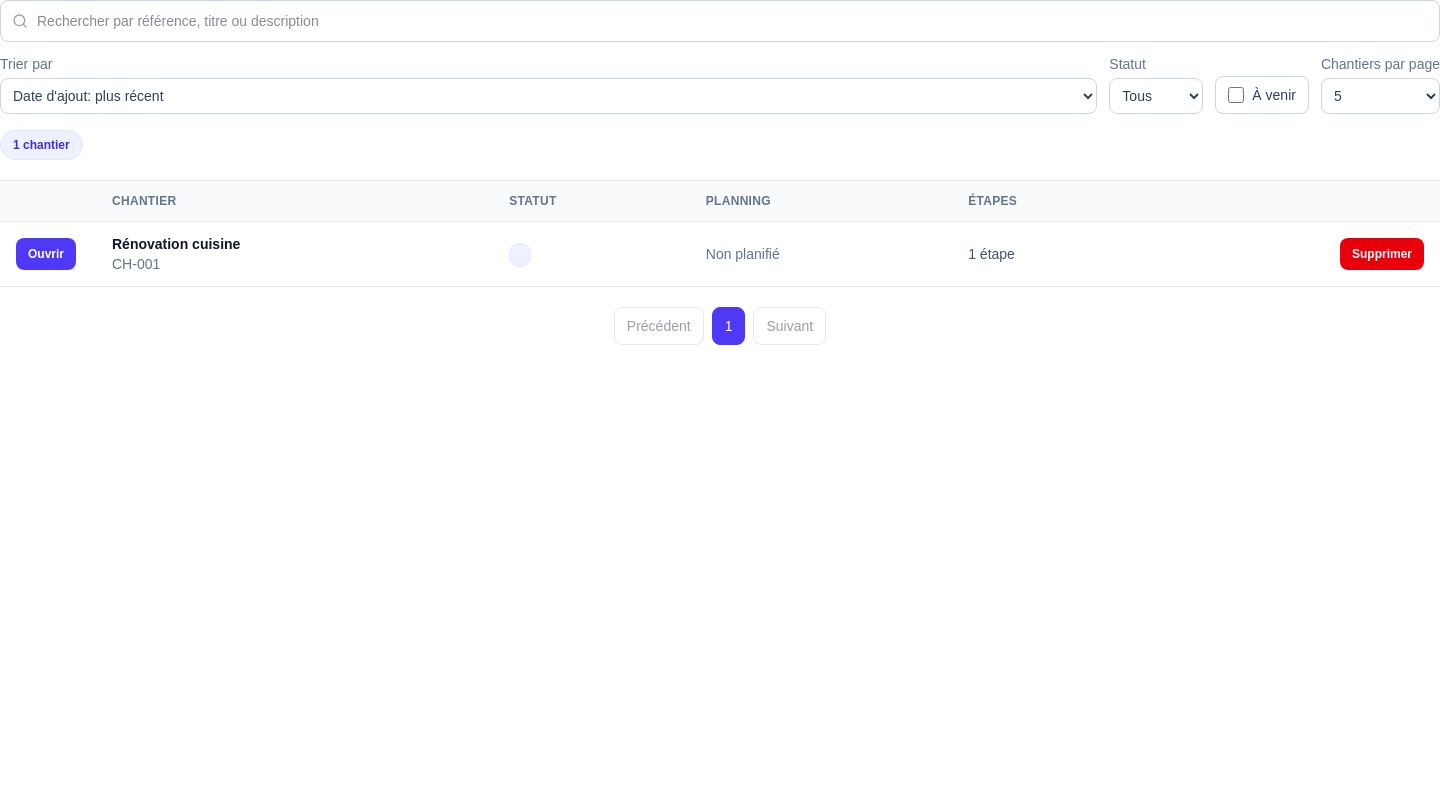
Test: WorkOrdersList › confirms deletion and reports the selected work order id
Click the button with aria-label "Supprimer le chantier CH-001": (1382,254) [1340,238,1424,270]
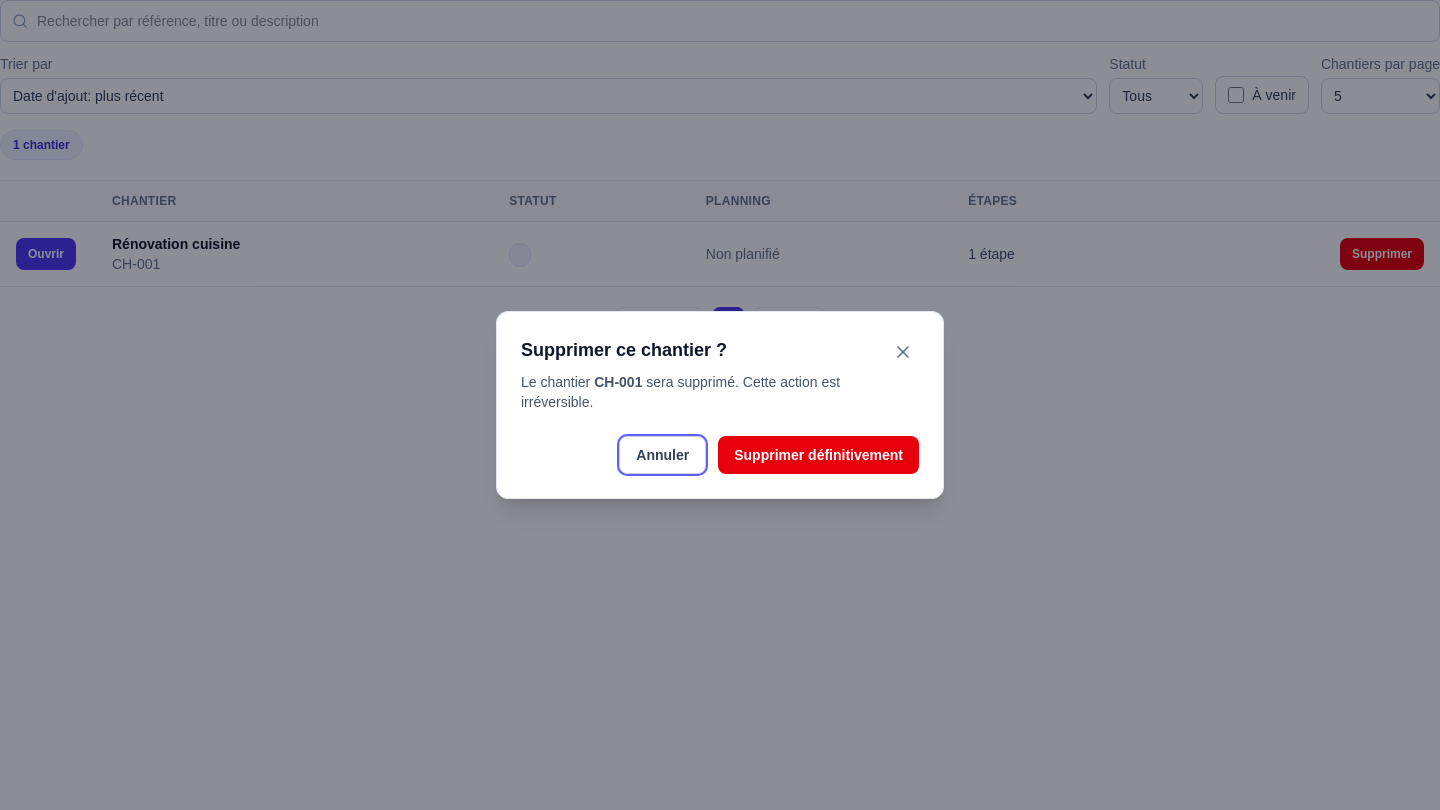
Now the dialog shows "Supprimer ce chantier ?", box [521,340,727,360]
Click the button "Supprimer définitivement": (819,455) [718,436,919,474]
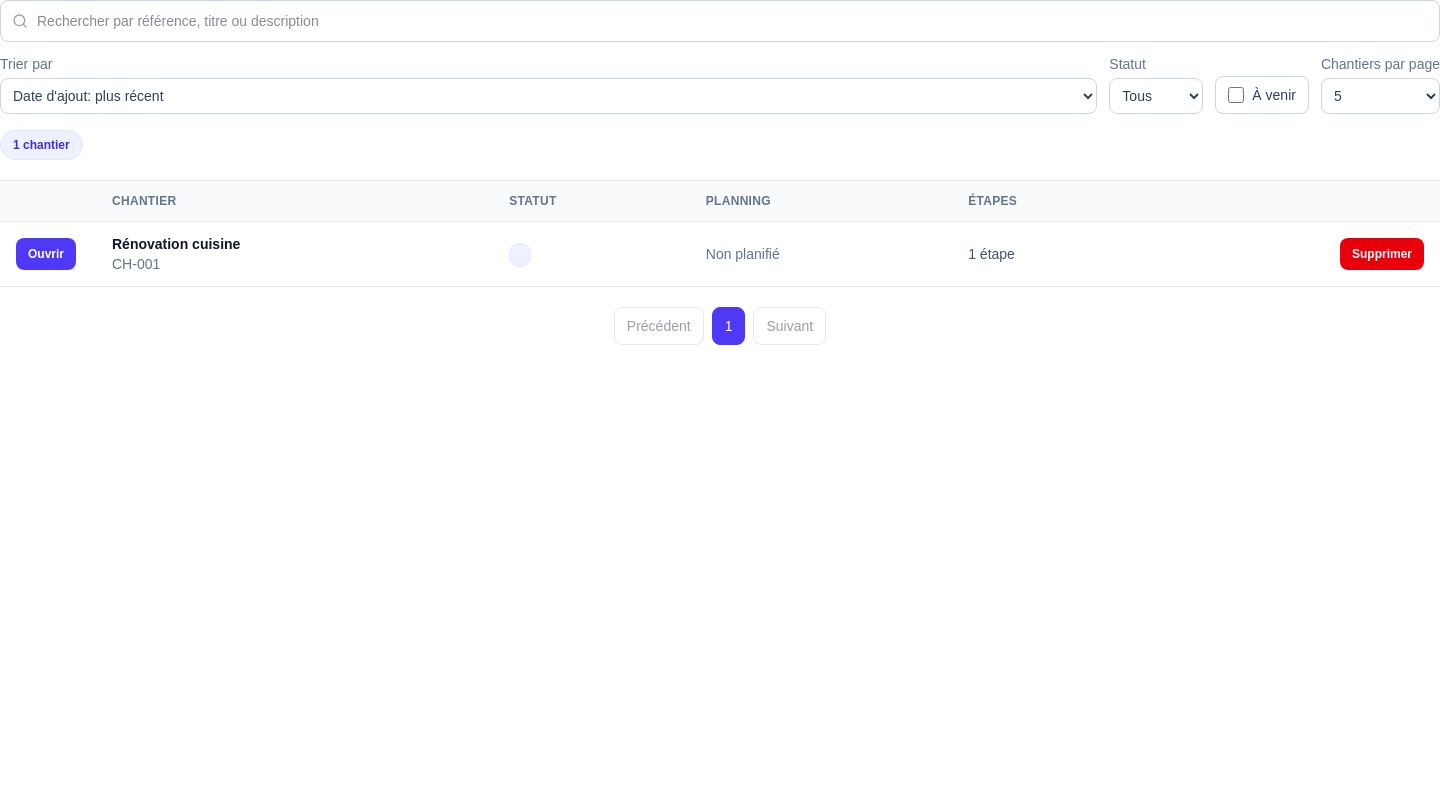
Now the dialog is gone
